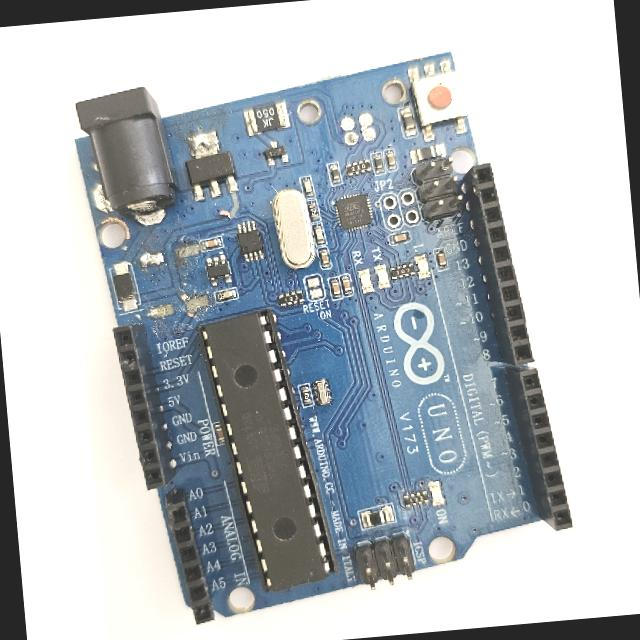missing_capacitors: (127, 220, 215, 332)
missing_usb: (288, 74, 416, 170)
